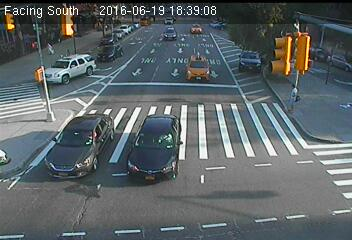neg: (3, 141, 29, 175), (11, 82, 36, 115), (103, 41, 117, 60), (74, 56, 83, 68)
pos: (282, 81, 308, 115), (42, 39, 56, 58)
